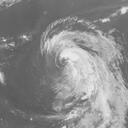cyclone: (39, 25, 106, 100)
